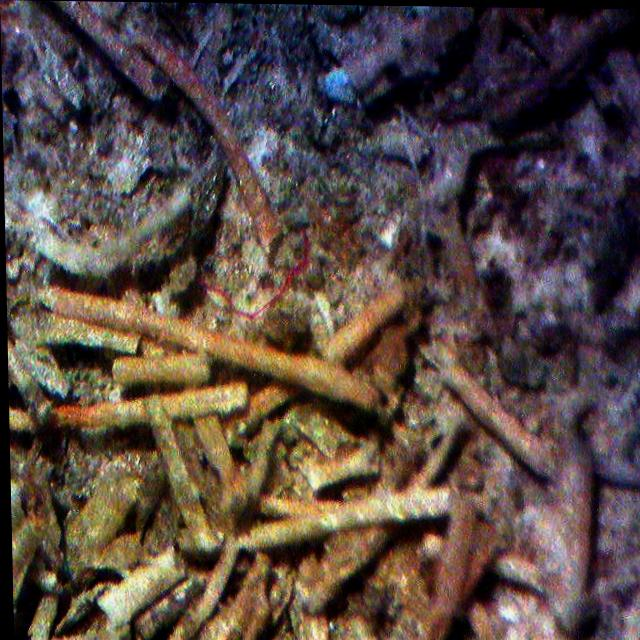microplastic: (195, 214, 329, 335)
